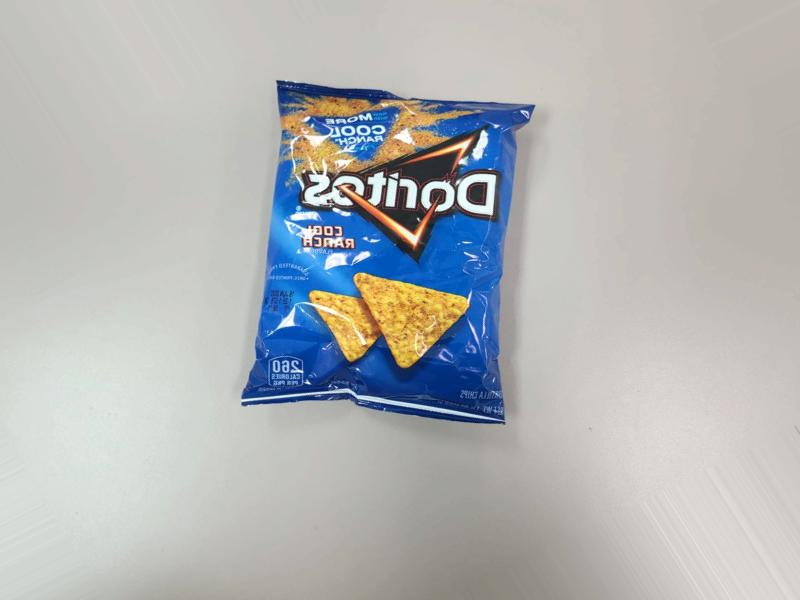doritos: (228, 85, 541, 438)
